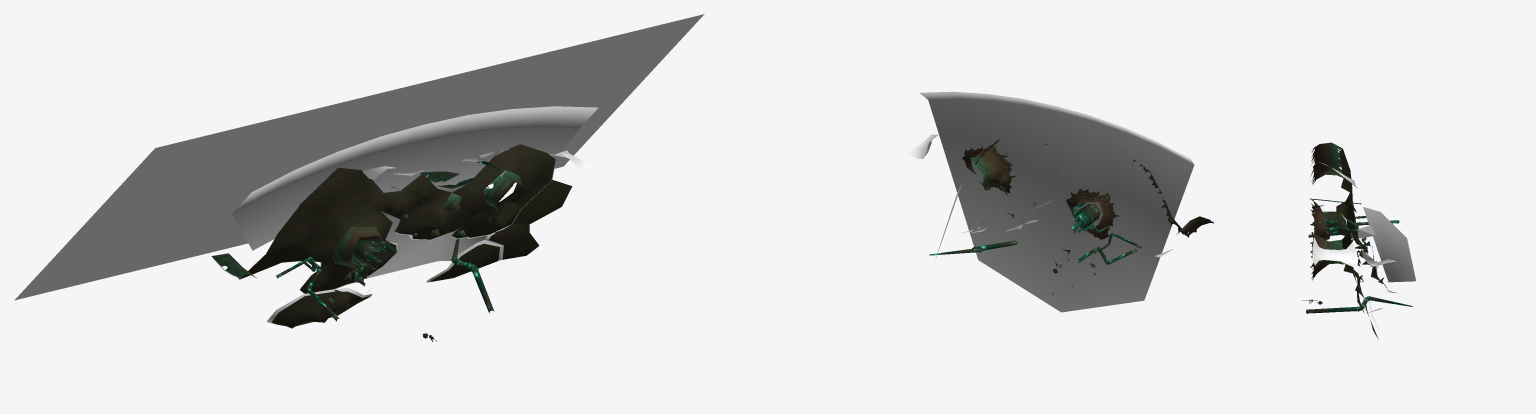
File: handle.glb
The picture shows the model from 3 angles, left to right: view 1: azimuth 30°, elevation 25°; view 2: azimuth 150°, elevation 25°; view 3: azimuth 270°, elevation 25°; orthographic projection. The views are drawn at different scales.
Visible parts, largest first — view 1: rsrc.world.skybox.catacombs.parts.base-MeshNodes["mesh_backd, rsrc.world.skybox.catacombs.parts.base-MeshNodes["mesh_rock", rsrc.world.skybox.catacombs.parts.base-MeshNodes["mesh_rockw, rsrc.world.skybox.catacombs.parts.base-MeshNodes["mesh_pipes, rsrc.world.skybox.catacombs.parts.base-MeshNodes["mesh_lowwa, rsrc.world.skybox.catacombs.parts.base-MeshNodes["mesh_farro; view 2: rsrc.world.skybox.catacombs.parts.base-MeshNodes["mesh_backd, rsrc.world.skybox.catacombs.parts.base-MeshNodes["mesh_rockw, rsrc.world.skybox.catacombs.parts.base-MeshNodes["mesh_pipes; view 3: rsrc.world.skybox.catacombs.parts.base-MeshNodes["mesh_rockw, rsrc.world.skybox.catacombs.parts.base-MeshNodes["mesh_backd, rsrc.world.skybox.catacombs.parts.base-MeshNodes["mesh_rock", rsrc.world.skybox.catacombs.parts.base-MeshNodes["mesh_pipes, rsrc.world.skybox.catacombs.parts.base-MeshNodes["mesh_farro, rsrc.world.skybox.catacombs.parts.base-MeshNodes["mesh_lowwa.
Part boxes in pixels (x1,y1,x2,y2): rsrc.world.skybox.catacombs.parts.base-MeshNodes["mesh_backd: (15, 14, 704, 300); rsrc.world.skybox.catacombs.parts.base-MeshNodes["mesh_rock": (240, 144, 572, 328); rsrc.world.skybox.catacombs.parts.base-MeshNodes["mesh_rockw: (211, 170, 530, 305); rsrc.world.skybox.catacombs.parts.base-MeshNodes["mesh_pipes: (276, 161, 499, 321); rsrc.world.skybox.catacombs.parts.base-MeshNodes["mesh_lowwa: (214, 163, 555, 324); rsrc.world.skybox.catacombs.parts.base-MeshNodes["mesh_farro: (362, 148, 594, 179); rsrc.world.skybox.catacombs.parts.base-MeshNodes["mesh_backd: (919, 91, 1194, 312); rsrc.world.skybox.catacombs.parts.base-MeshNodes["mesh_rockw: (961, 144, 1213, 295); rsrc.world.skybox.catacombs.parts.base-MeshNodes["mesh_pipes: (929, 139, 1141, 264); rsrc.world.skybox.catacombs.parts.base-MeshNodes["mesh_rockw: (1310, 142, 1383, 283); rsrc.world.skybox.catacombs.parts.base-MeshNodes["mesh_backd: (1363, 207, 1415, 282); rsrc.world.skybox.catacombs.parts.base-MeshNodes["mesh_rock": (1339, 148, 1396, 339); rsrc.world.skybox.catacombs.parts.base-MeshNodes["mesh_pipes: (1306, 198, 1412, 313); rsrc.world.skybox.catacombs.parts.base-MeshNodes["mesh_farro: (1312, 162, 1357, 267); rsrc.world.skybox.catacombs.parts.base-MeshNodes["mesh_lowwa: (1354, 225, 1396, 330).
Size of the model in its own units: 267 by 147 by 125.
Materials: 10 (6 with a texture image).
